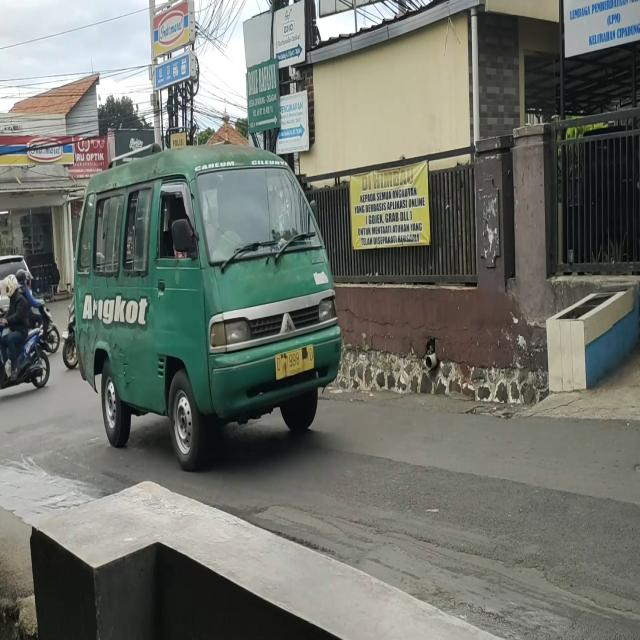helmet: (2, 276, 16, 306), (18, 270, 31, 294)
